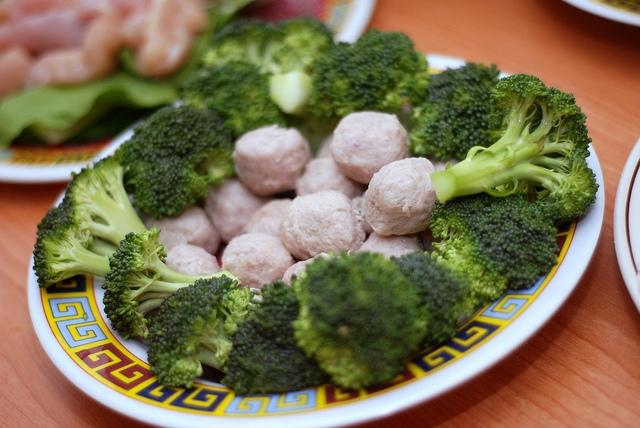broccoli: (430, 74, 598, 222), (290, 252, 424, 390), (102, 226, 241, 340), (428, 192, 560, 305), (115, 104, 238, 220), (218, 279, 330, 397), (147, 274, 252, 389), (306, 28, 430, 123), (181, 17, 335, 84), (406, 62, 502, 162), (175, 58, 289, 140), (389, 248, 470, 348), (32, 203, 112, 289), (269, 72, 340, 156)
lettuce: (3, 11, 232, 146), (201, 0, 255, 35)
